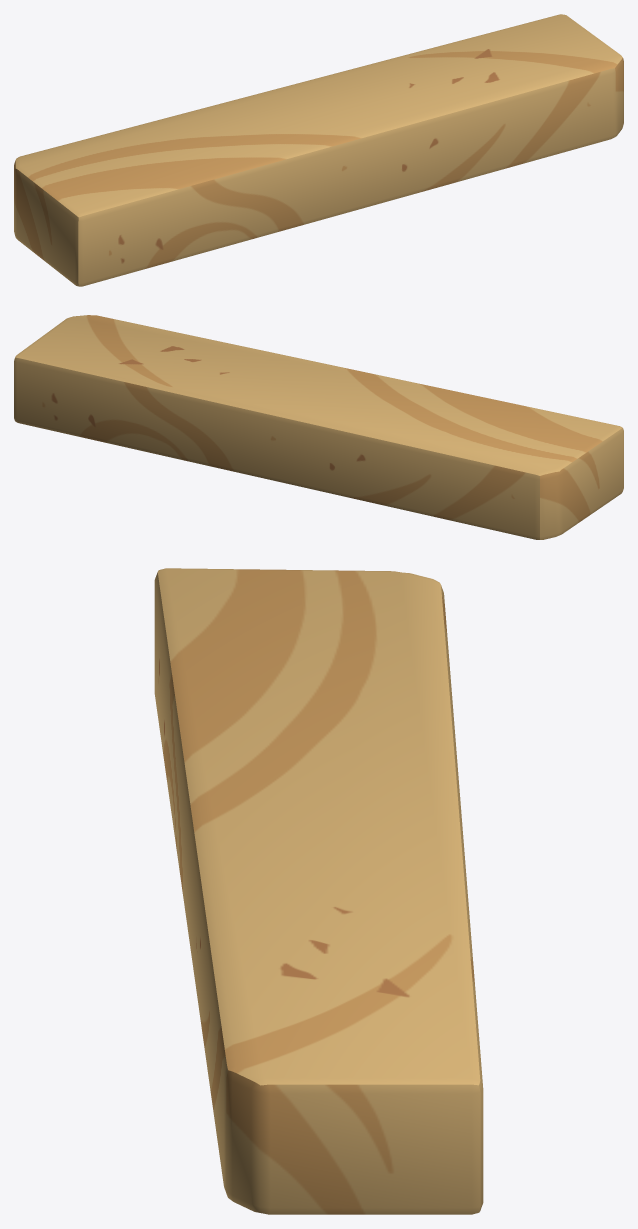
File: Prop_WoodBridge2.fbx
The picture shows the model from 3 angles, top to bottom: view 1: azimuth 30°, elevation 25°; view 2: azimuth 150°, elevation 25°; view 3: azimuth 270°, elevation 25°; orthographic projection. The views are drawn at different scales.
Visible parts, largest first — view 1: WoodBridge2; view 2: WoodBridge2; view 3: WoodBridge2.
Boxes of the visible parts, x1,y1,x2,y2 form: WoodBridge2: [14, 14, 623, 286]; WoodBridge2: [14, 315, 623, 539]; WoodBridge2: [154, 568, 483, 1214].
Bounding box in the file's own units: 140 × 17.06 × 37.51.
